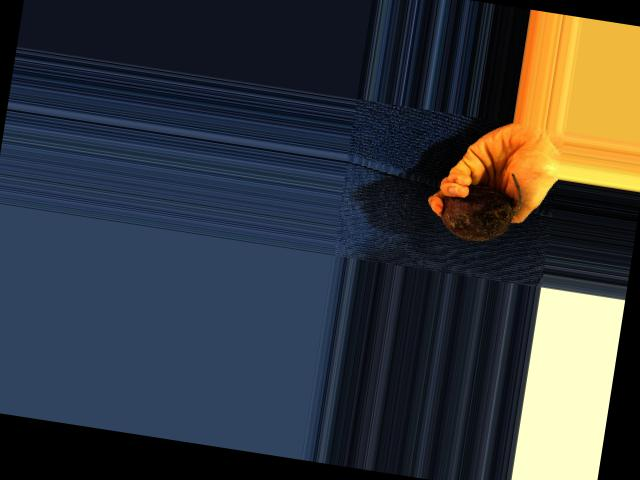beet: (437, 162, 526, 246)
